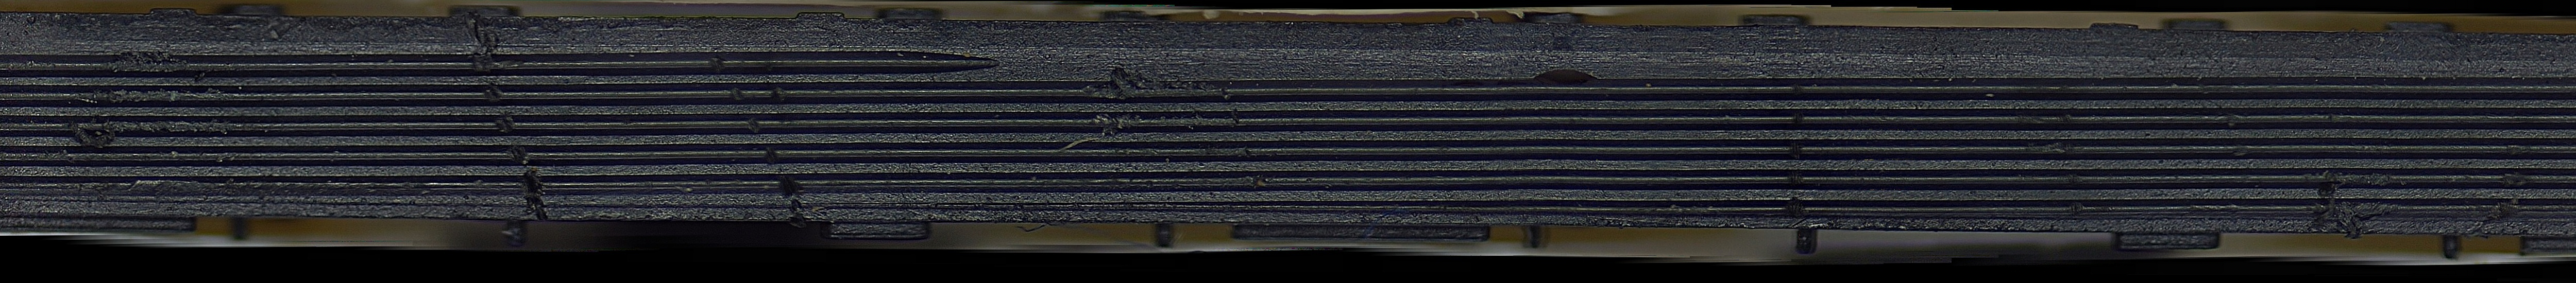Scratches: (455, 21, 560, 220), (705, 54, 795, 138), (2014, 79, 2065, 222), (1750, 79, 1797, 225), (2451, 127, 2502, 230), (1083, 61, 1152, 137), (754, 146, 818, 225), (2275, 171, 2339, 242), (61, 102, 127, 161), (102, 41, 202, 79), (1521, 61, 1605, 90)
dust: (1048, 122, 1111, 161)
